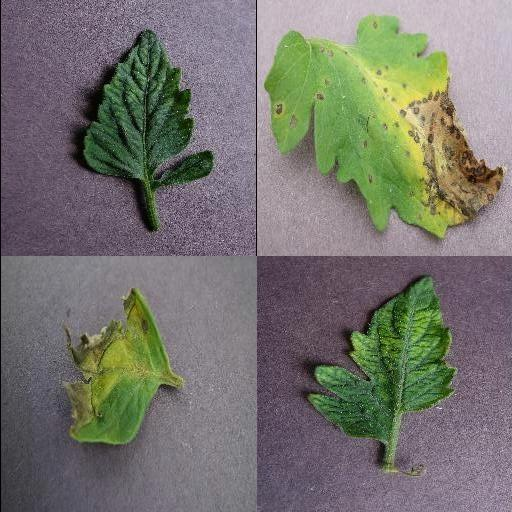Late Blight: (58, 288, 174, 448)
Mosaic Virus: (305, 272, 459, 444), (80, 28, 213, 187)
Septoria: (263, 18, 505, 237)
